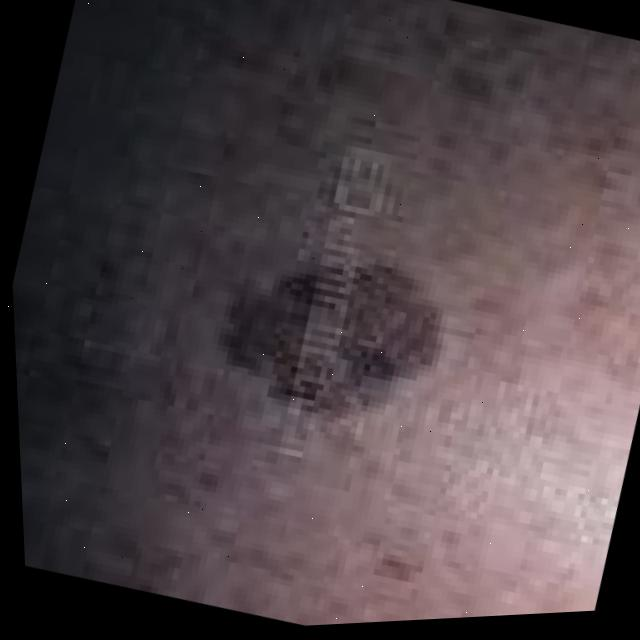Melasma: (186, 219, 449, 481)
